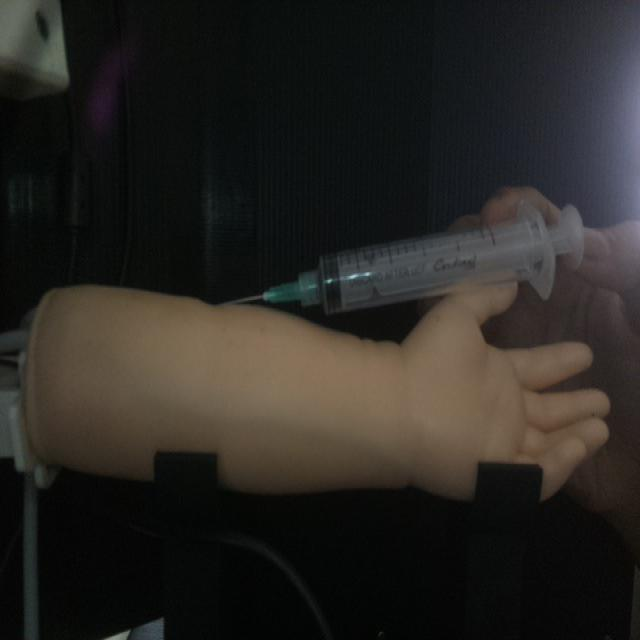Outside: (227, 194, 587, 318)
